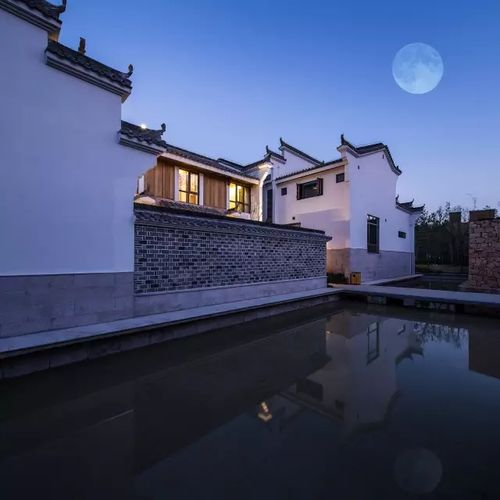sea_river: (40, 366, 484, 497)
